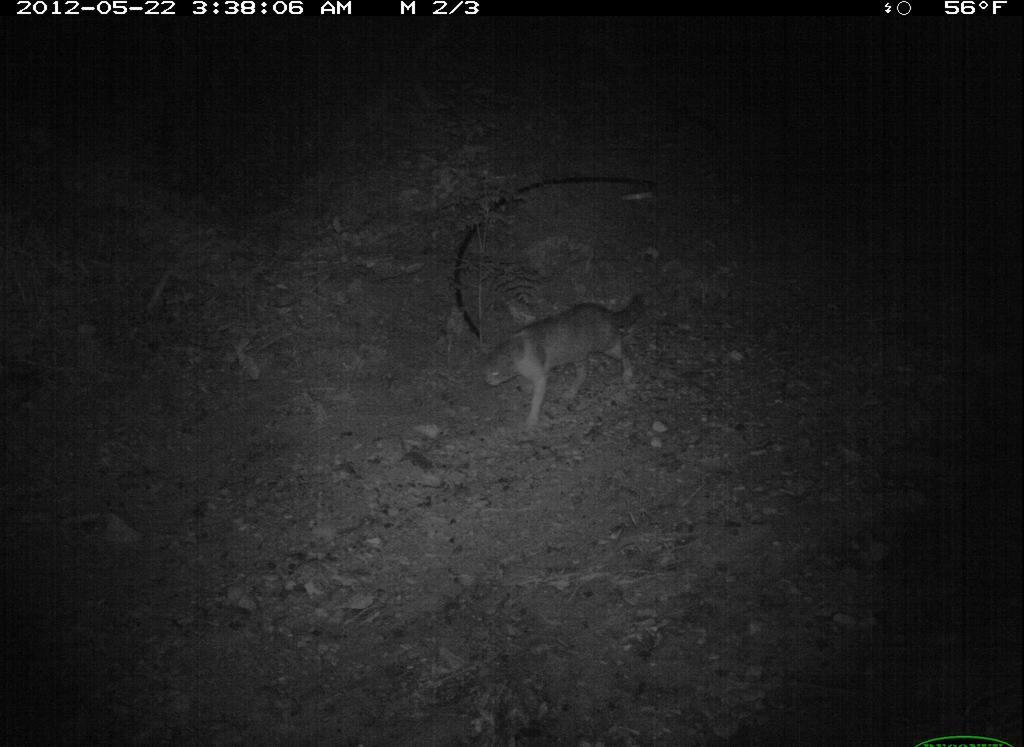cat: (470, 278, 670, 440)
